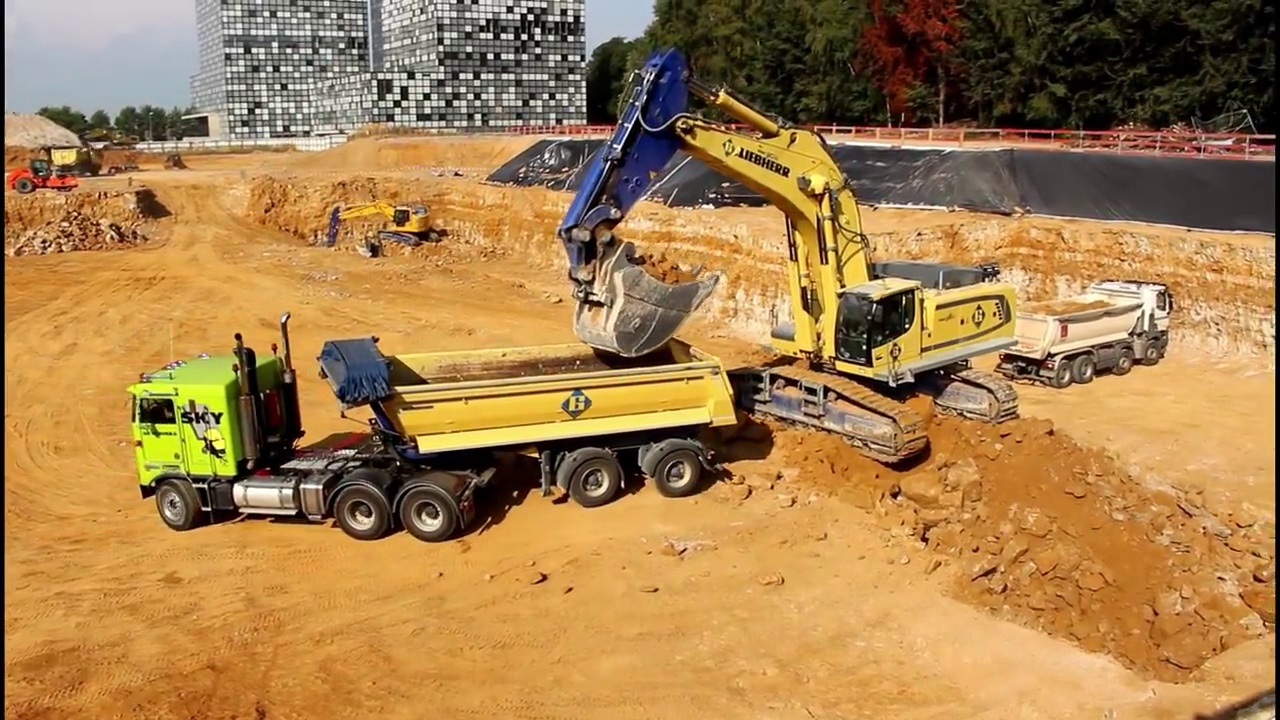compactor: (8, 157, 83, 196)
excavator: (550, 48, 1025, 467), (314, 192, 447, 258), (81, 121, 143, 154)
truck: (119, 306, 750, 544), (997, 276, 1184, 392), (36, 143, 91, 178)
